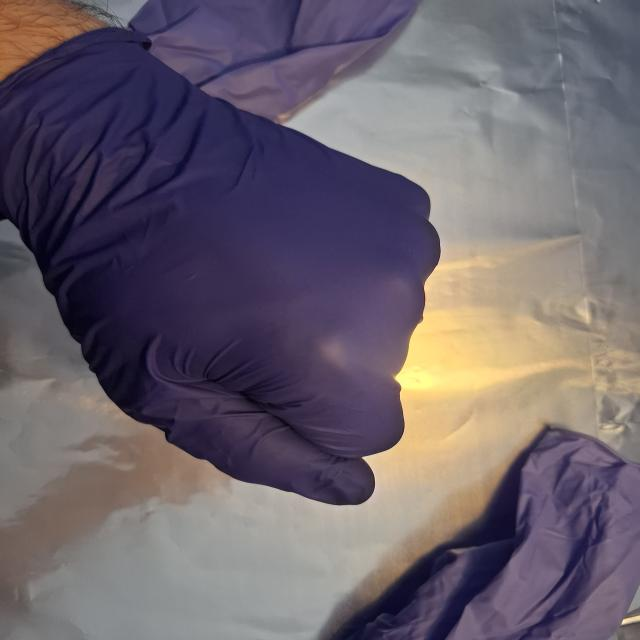glove_on: (0, 26, 445, 509)
